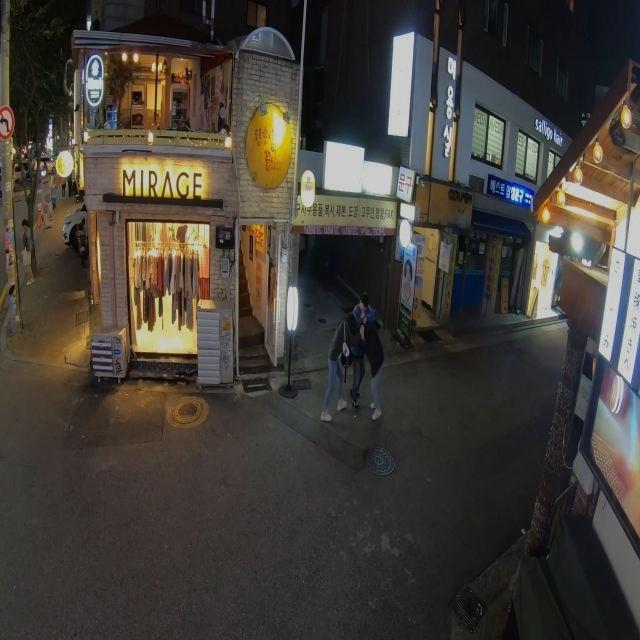fight: (318, 291, 390, 424)
non-fight: (16, 218, 38, 287)
